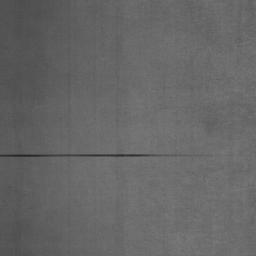Crease: (0, 154, 212, 158)
